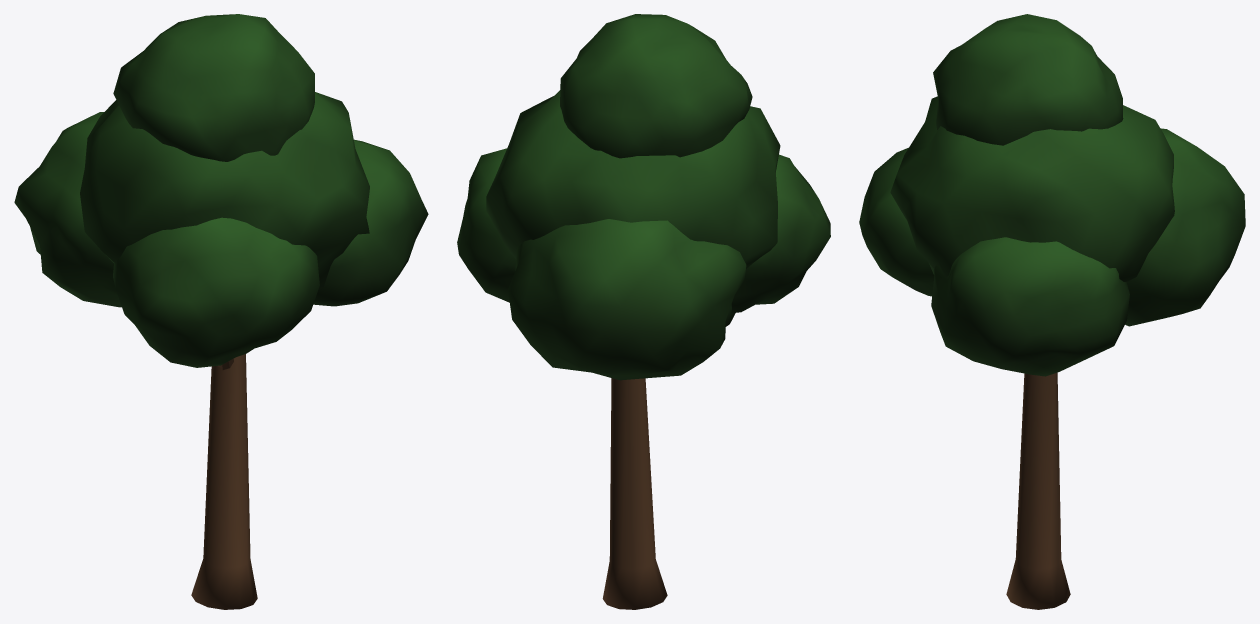
Rendered from tree_oak_c.glb.
3 renders of one model, left to right at view 1: azimuth 30°, elevation 25°; view 2: azimuth 150°, elevation 25°; view 3: azimuth 270°, elevation 25°, orthographic. The views are drawn at different scales.
Visible parts, largest first — view 1: leaves, leaves.002, leaves.004, trunk, leaves.001, leaves.003; view 2: leaves.001, leaves, leaves.004, trunk, leaves.002, leaves.003; view 3: leaves, leaves.003, leaves.004, leaves.001, trunk, leaves.002.
Boxes of the visible parts, x1,y1,x2,y2 form: leaves: [80, 92, 369, 289]; leaves.002: [113, 217, 319, 367]; leaves.004: [113, 14, 314, 161]; trunk: [191, 354, 257, 609]; leaves.001: [14, 112, 121, 307]; leaves.003: [313, 139, 428, 306]; leaves.001: [508, 219, 746, 380]; leaves: [486, 90, 780, 268]; leaves.004: [560, 14, 752, 158]; trunk: [602, 378, 667, 609]; leaves.002: [731, 154, 830, 312]; leaves.003: [457, 148, 516, 302]; leaves: [890, 96, 1174, 281]; leaves.003: [931, 237, 1129, 376]; leaves.004: [933, 14, 1123, 145]; leaves.001: [1125, 128, 1245, 326]; trunk: [1006, 372, 1070, 609]; leaves.002: [859, 147, 933, 296].
Bounding box in the file's own units: 2.69 × 4.67 × 2.89.
